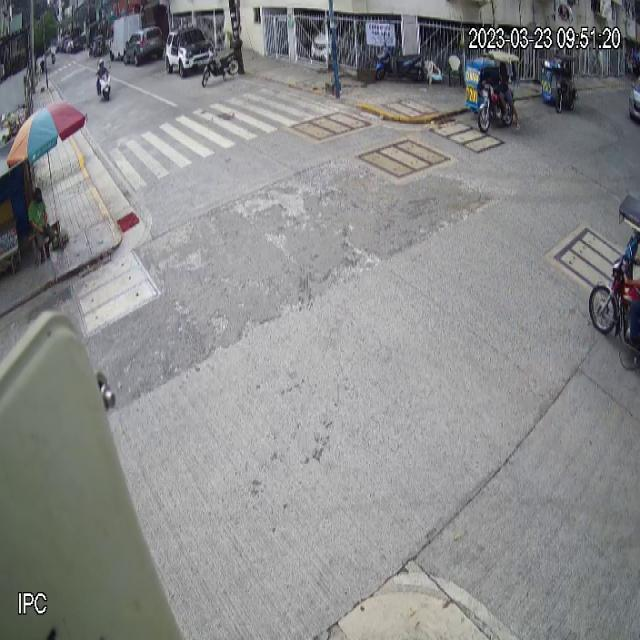Tricycle: (466, 52, 520, 134)
